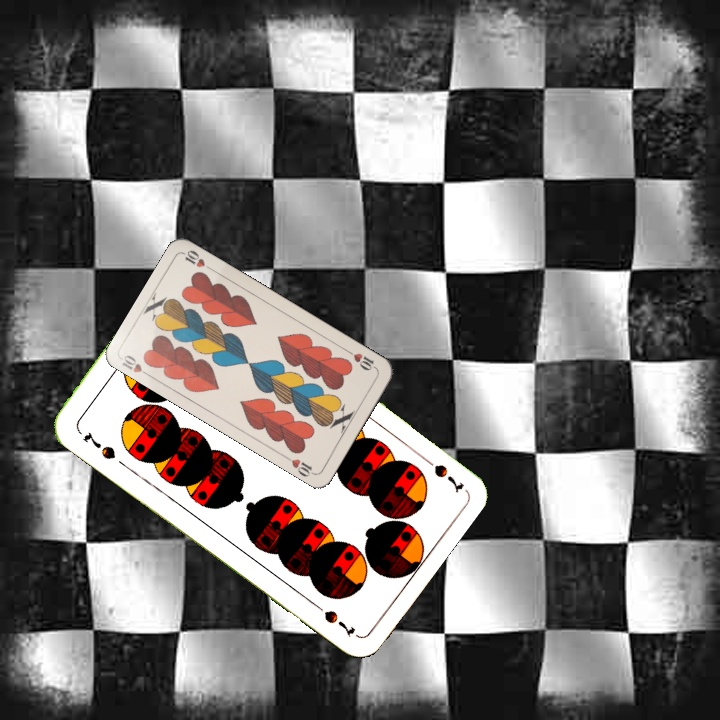H10: (118, 351, 154, 380), (342, 345, 379, 373)
S7: (415, 451, 467, 495), (78, 427, 118, 462)
